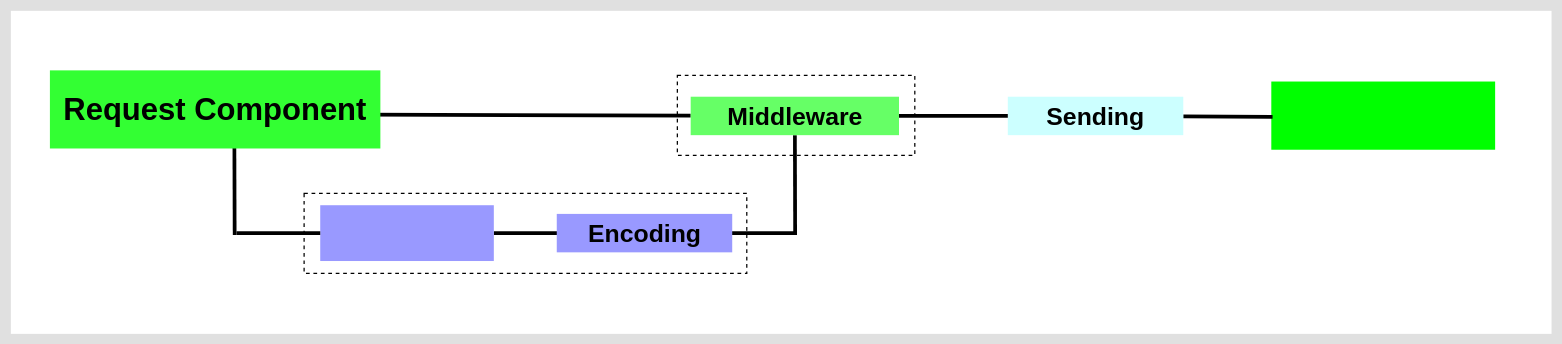
Image size: 1562x344. Some labels were removed from this diagram. Here are the shapes that lost their labels. From the top down, the centre of each, then its label:
point (1383, 115): Detections
point (407, 233): Generators
